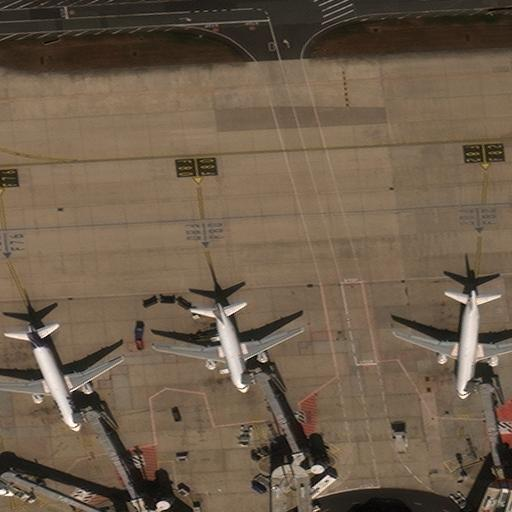Medium Civil Transport: (153, 302, 304, 392), (0, 325, 124, 431), (394, 289, 511, 399)
